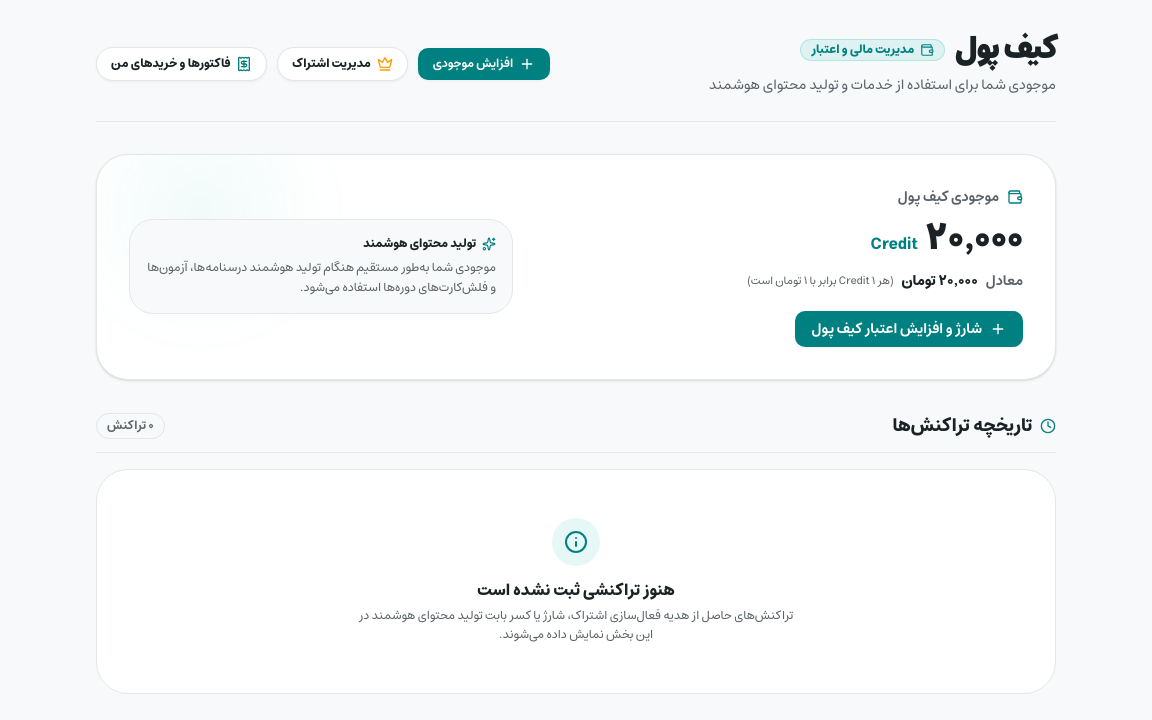
Test: UserWalletPage › 9. Top-up modal opens when clicking 'افزایش موجودی' and enables amount selection
What coordinates should you click on to do the following:
click the button "افزایش موجودی"
I would click on:
 (484, 64)
Its box is [418, 48, 550, 80].
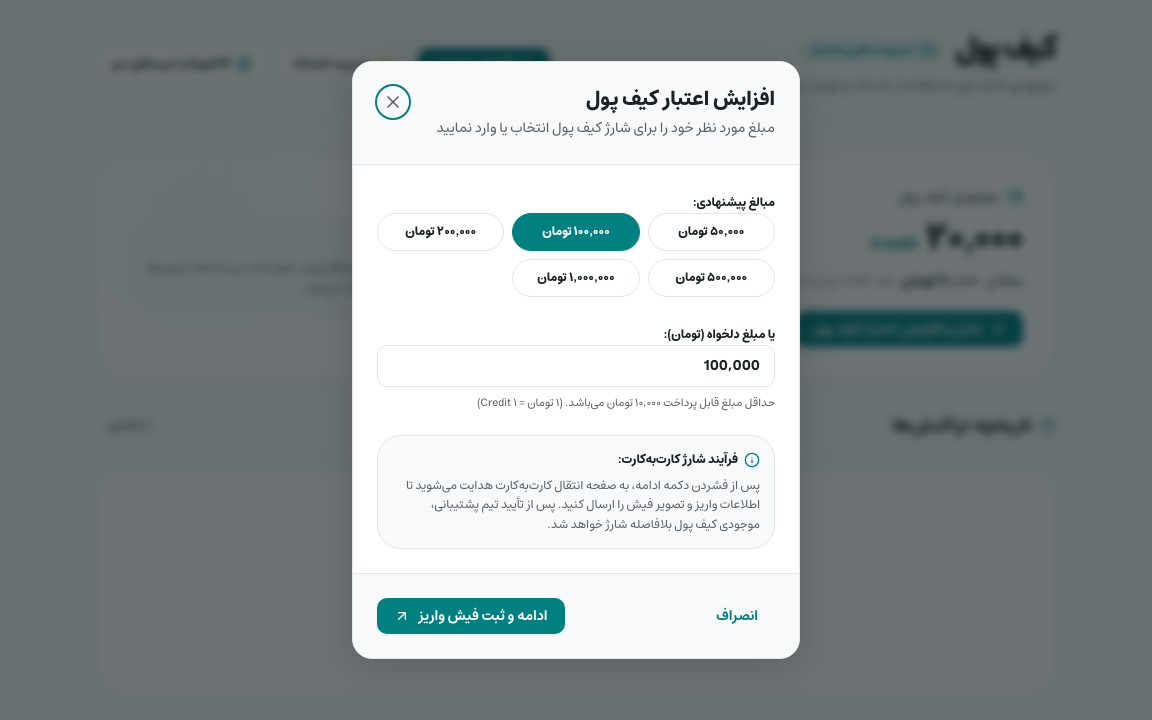
Result: the heading "افزایش اعتبار کیف پول" is shown at [586, 82, 775, 117]
Result: the text "مبالغ پیشنهادی:" is shown at [693, 192, 775, 213]
Result: the button "ادامه و ثبت فیش واریز" is shown at [377, 598, 565, 634]
